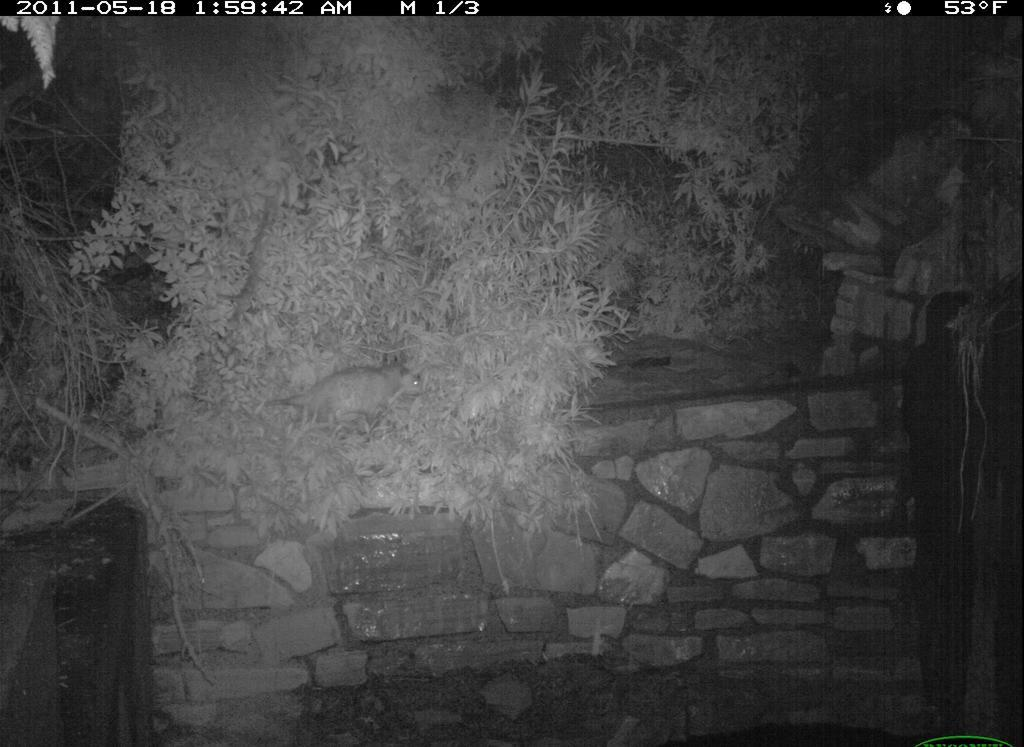opossum: (258, 353, 434, 440)
